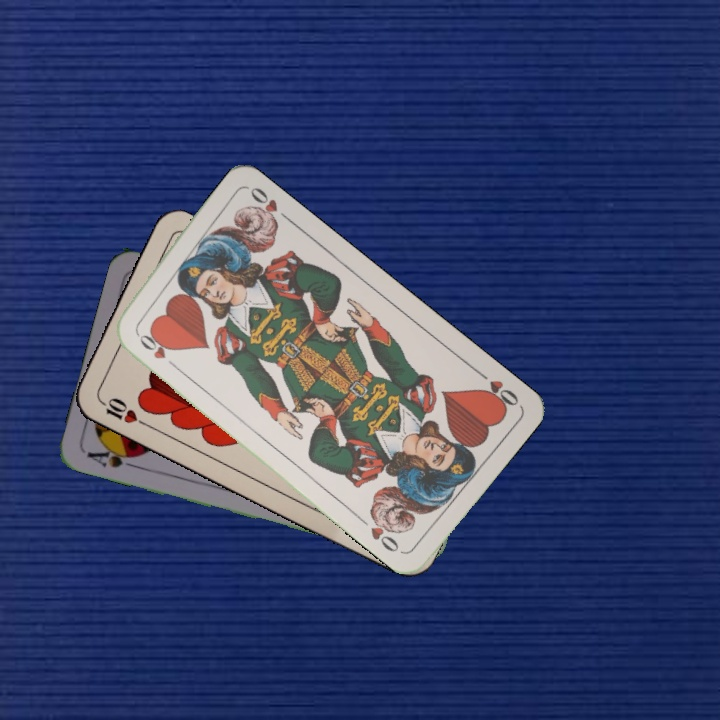H10: (94, 393, 149, 429)
HO: (472, 366, 522, 412), (131, 327, 180, 371)
SA: (83, 441, 143, 471)
